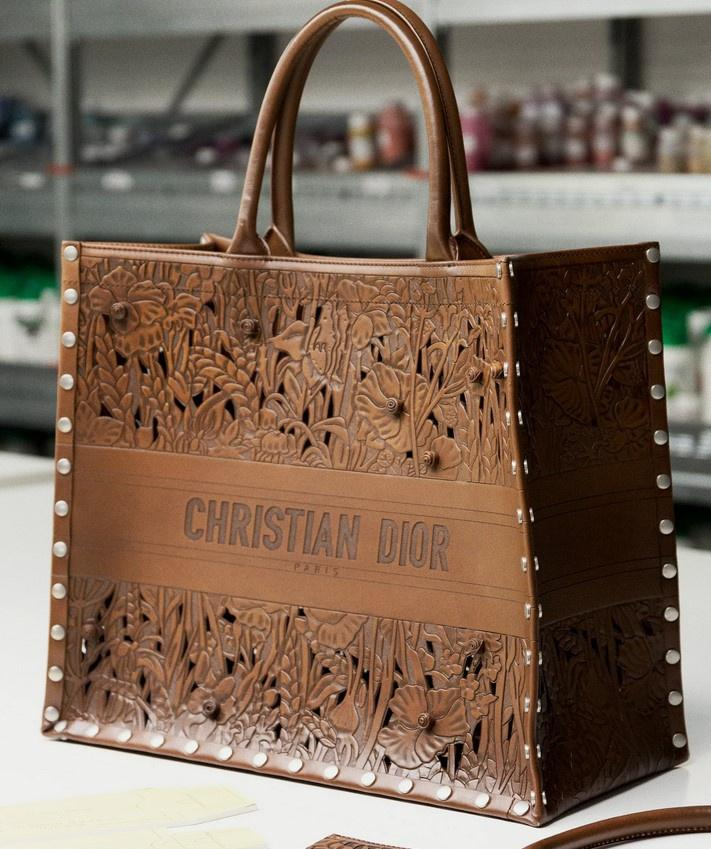DIOR: (166, 476, 473, 596)
